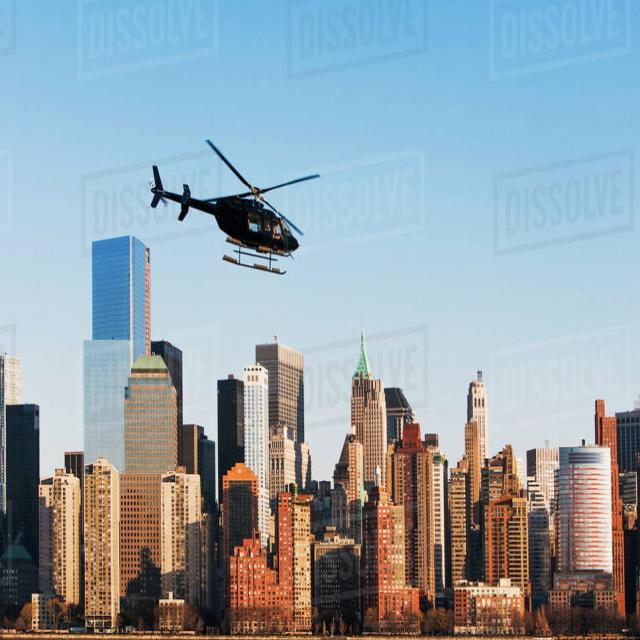helicopter: (152, 138, 321, 277)
